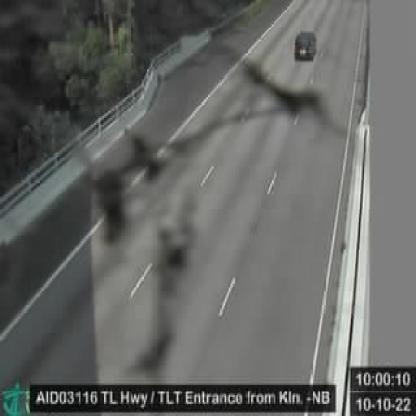Car: (294, 30, 318, 62)
